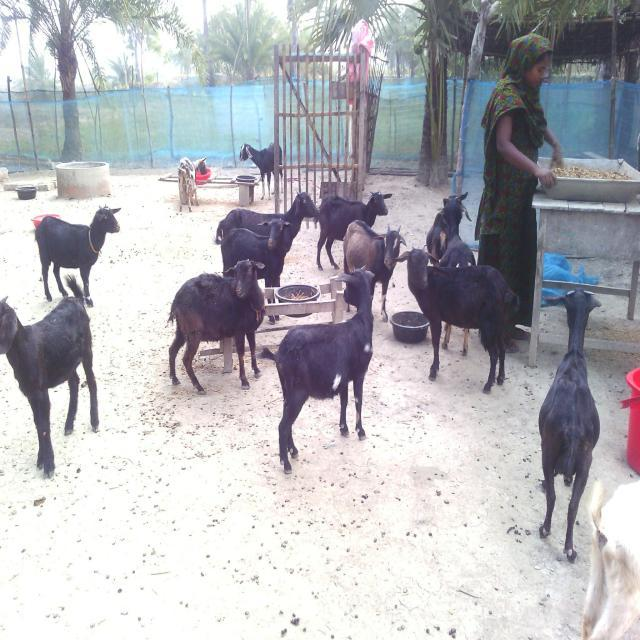Goat: (260, 265, 377, 474), (1, 273, 100, 479), (395, 245, 522, 394), (538, 287, 603, 563), (167, 258, 267, 394), (582, 477, 640, 638), (35, 203, 122, 307), (426, 190, 477, 354), (343, 218, 407, 322), (316, 190, 393, 271), (240, 141, 284, 200)
